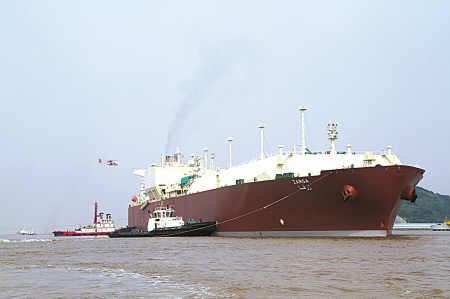Cargoship: (128, 104, 426, 237)
airplane: (94, 155, 121, 168)
otherboat: (106, 204, 222, 244), (47, 203, 128, 240), (15, 221, 40, 237)
